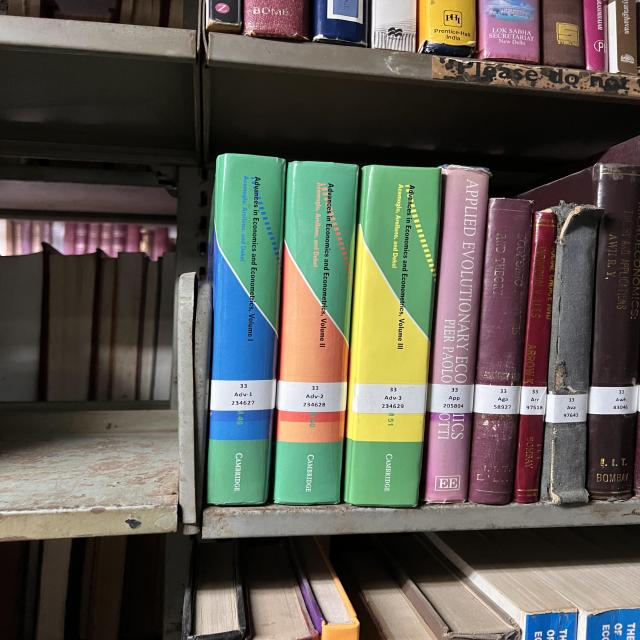Book: (520, 164, 640, 500), (343, 165, 440, 506), (273, 161, 358, 504), (207, 154, 285, 505), (423, 165, 490, 504), (468, 199, 532, 504), (540, 202, 603, 504), (513, 209, 557, 502)
Label: (352, 384, 427, 414), (277, 380, 347, 412), (210, 379, 277, 411), (473, 384, 522, 415), (427, 384, 475, 414), (588, 386, 637, 415), (545, 394, 588, 422), (520, 386, 547, 415)
